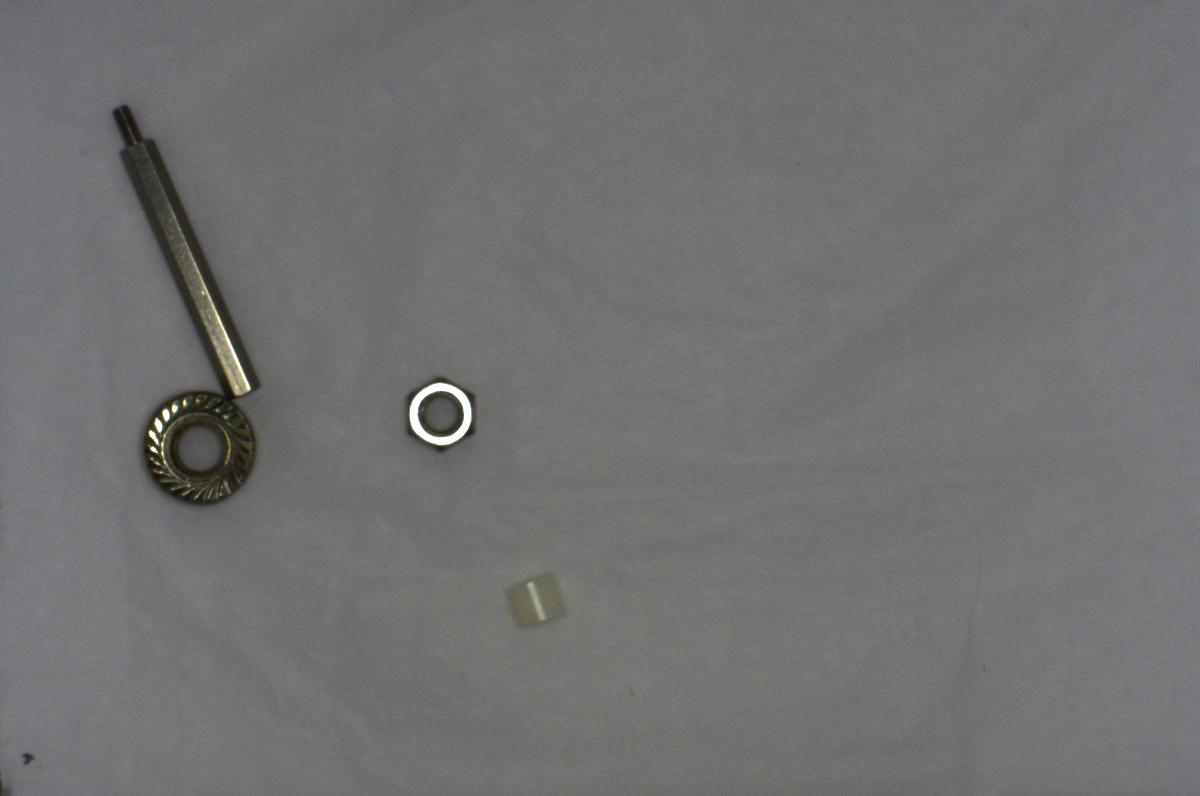Flange nut: (128, 393, 270, 512)
Hexagon nut: (386, 372, 485, 455)
Hexagonal steel column: (110, 94, 275, 405)
Plastic cushion pillar: (498, 565, 573, 633)
